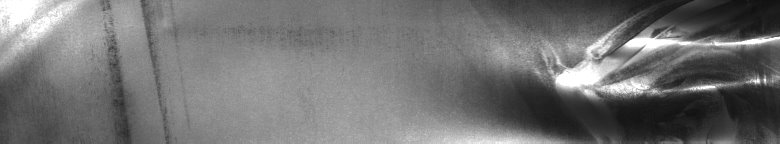ke: (512, 12, 776, 136)
